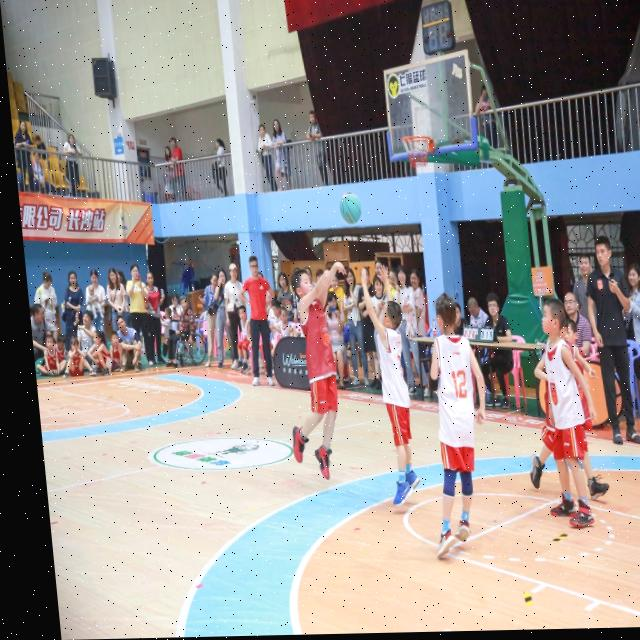basketball: (339, 191, 363, 224)
hoop: (399, 135, 436, 169)
